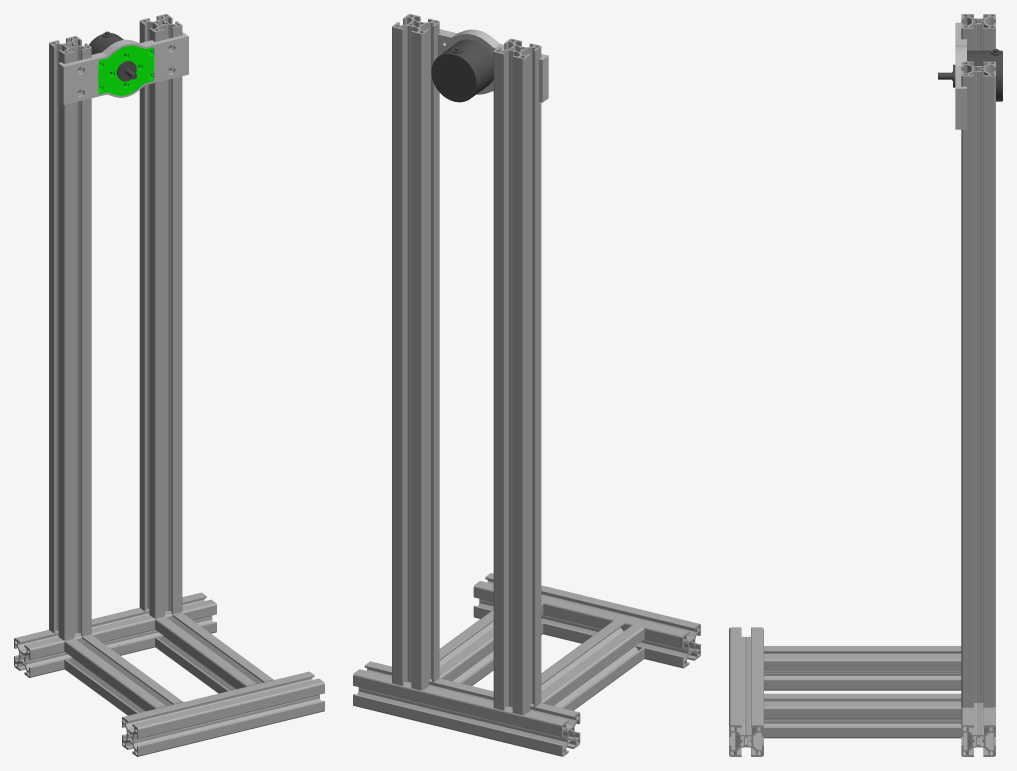
The model's file is Joint2.obj.
3 renders of one model, left to right at view 1: azimuth 30°, elevation 25°; view 2: azimuth 150°, elevation 25°; view 3: azimuth 270°, elevation 25°, orthographic. The views are drawn at different scales.
Bounding box in the file's own units: 20 × 63 × 23.6.
